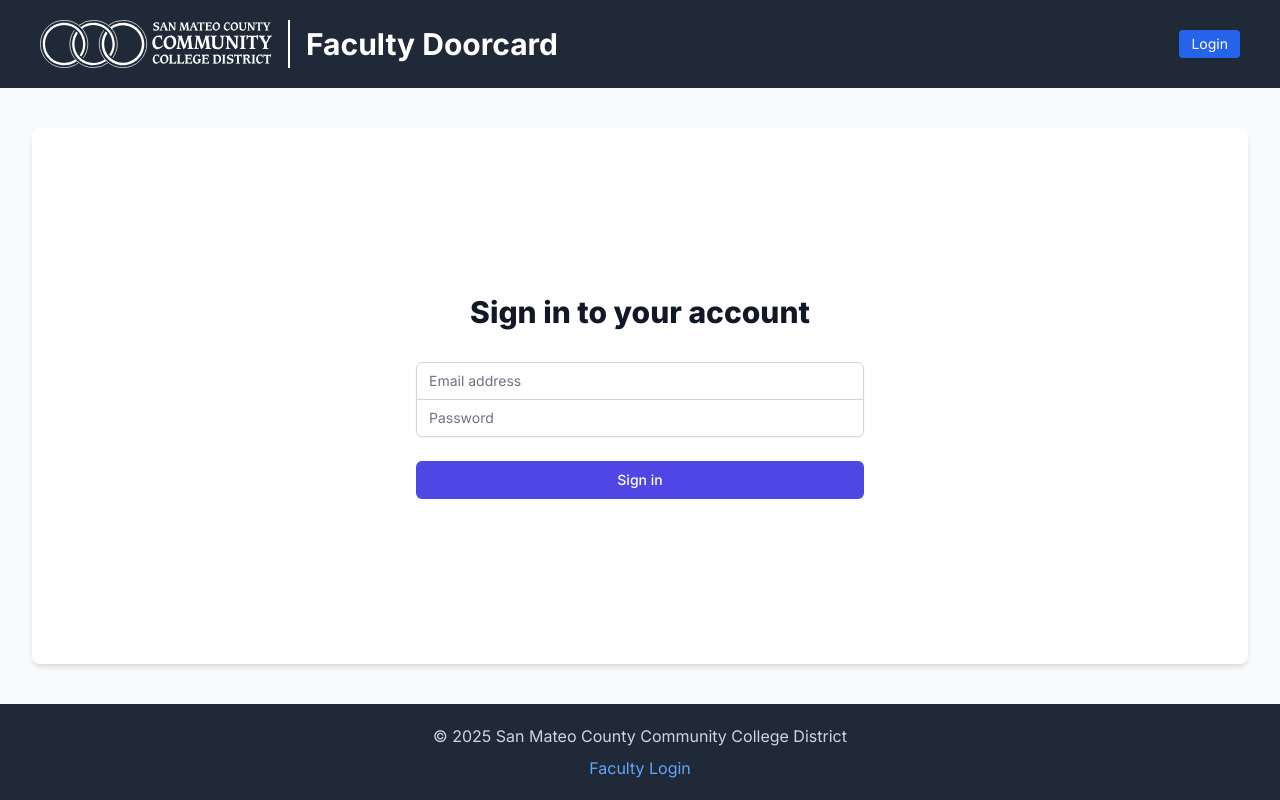
Test: Login Input Validation › should show 'Email is required' if email is empty
Type "password123" into the password field named "password" at (640, 418), box [416, 399, 864, 437]
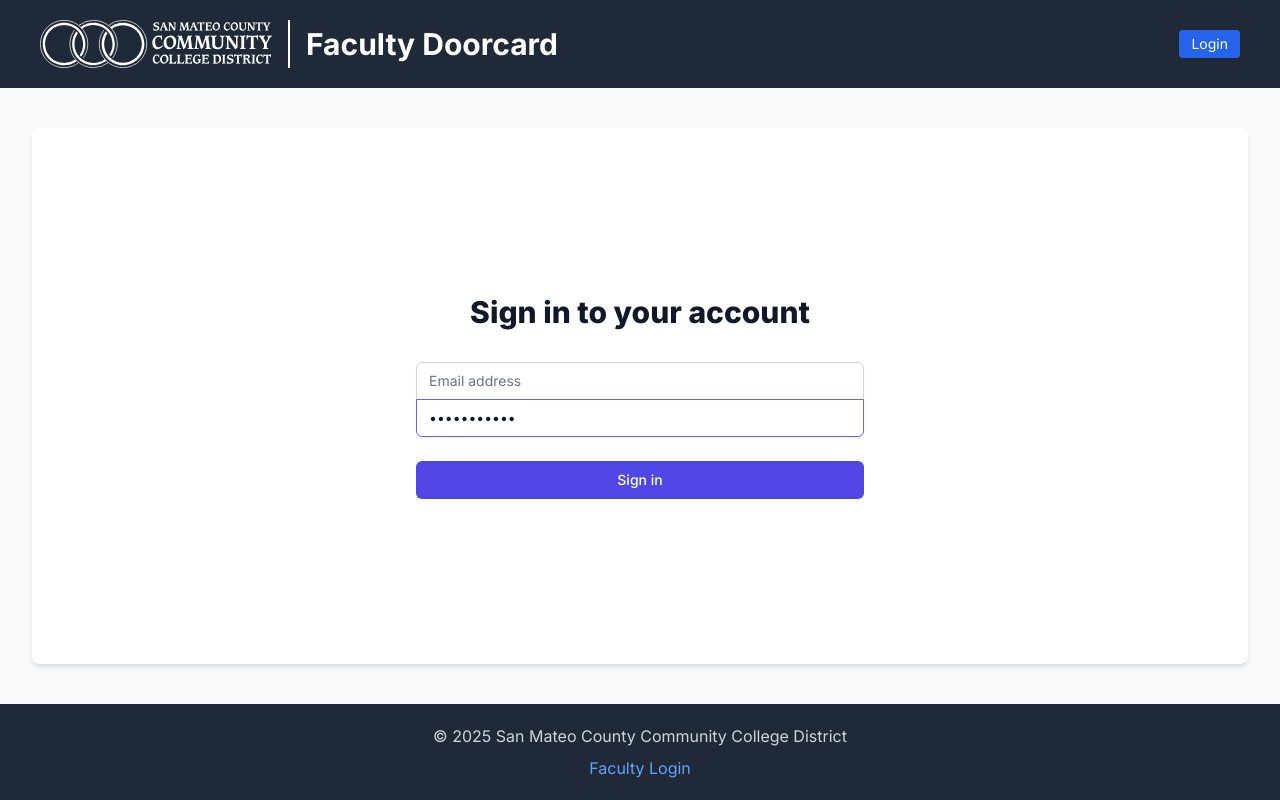
Click the submit button at (640, 480), box [416, 461, 864, 499]
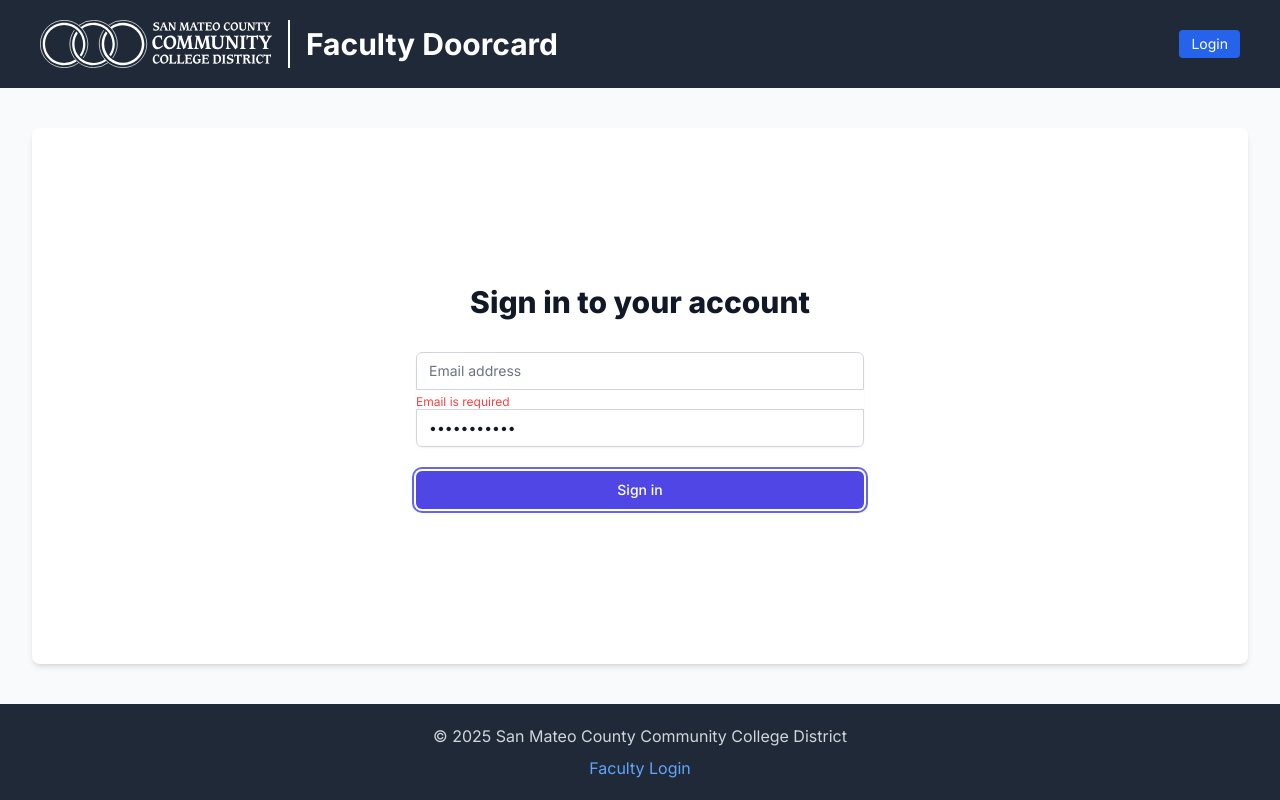
Expected: the text "Email is required" is shown, [416, 394, 510, 409]
